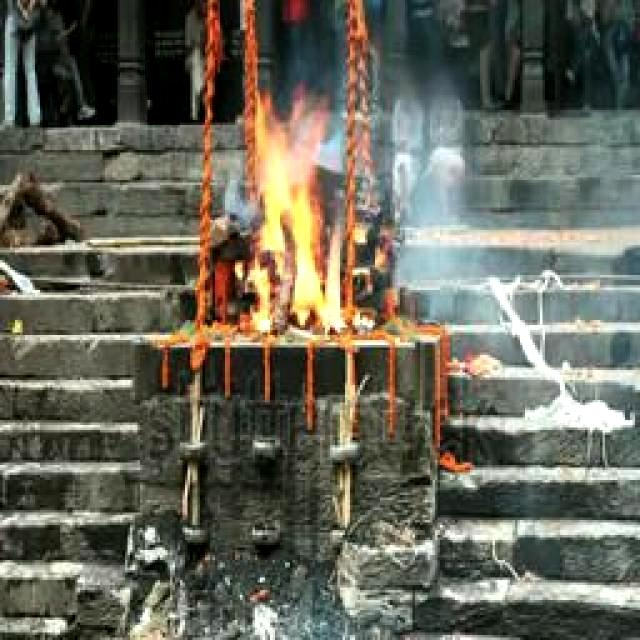fire: (246, 103, 350, 329)
